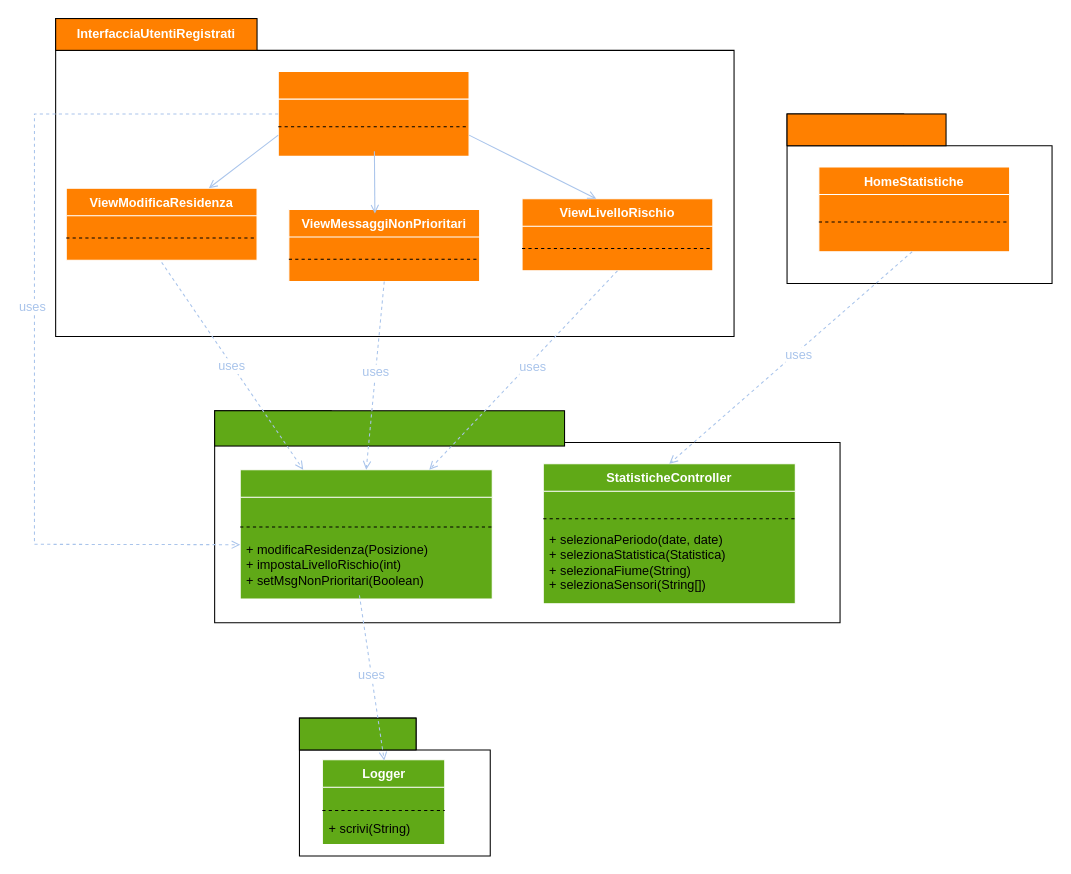
Some shapes in this 1071 by 874 pixel diagram are drawn without their labels. The box of each missing label's shape, as (x1, y1, x2, y2) in pixels:
AreaPersonaleController: (239, 469, 492, 599)
GestioneUtentiRegistrati: (214, 410, 565, 446)
HomeAreaPersonale: (277, 70, 469, 156)
InterfacciaStatistiche: (786, 113, 946, 146)
Log: (298, 717, 416, 750)
